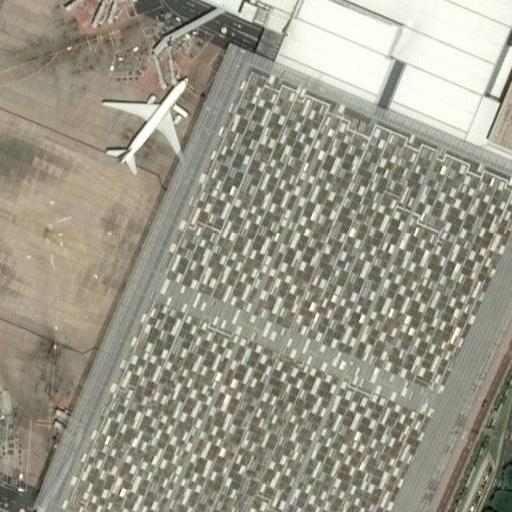Aircraft: (96, 72, 185, 170)
